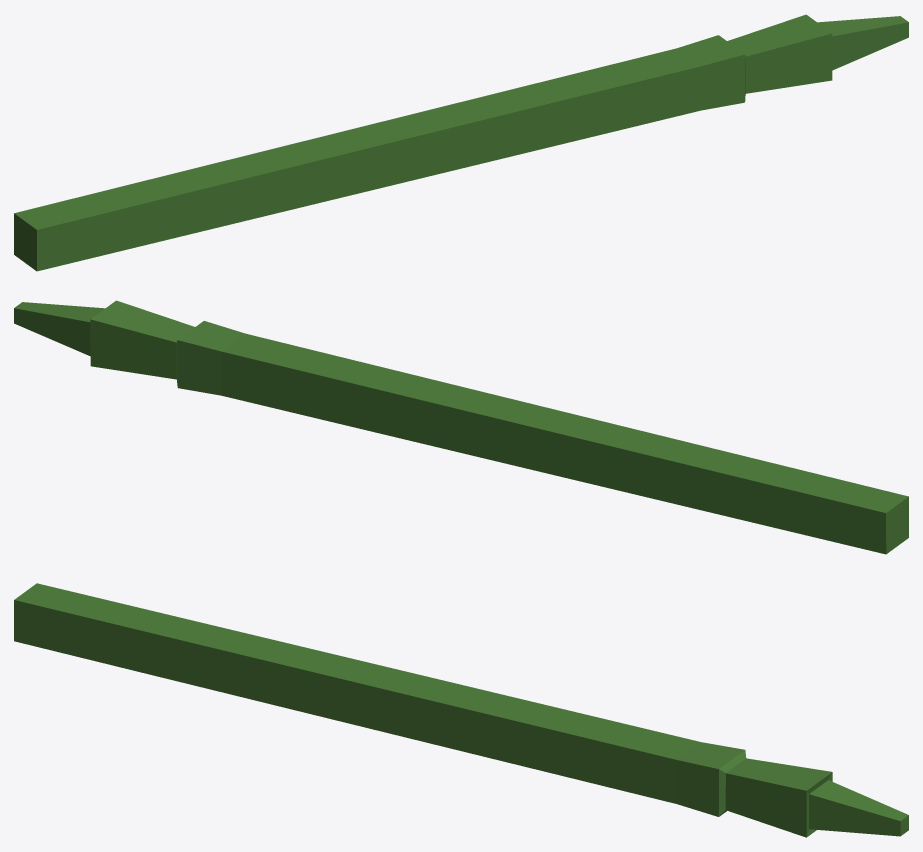
File: asparagus.fbx
3 renders of one model, top to bottom at view 1: azimuth 30°, elevation 25°; view 2: azimuth 150°, elevation 25°; view 3: azimuth 330°, elevation 25°, orthographic.
Visible parts, largest first — view 1: asparagus; view 2: asparagus; view 3: asparagus.
Boxes of the visible parts, left/top/right/bottom form: asparagus: left=14, top=14, right=908, bottom=271; asparagus: left=14, top=300, right=908, bottom=554; asparagus: left=14, top=583, right=908, bottom=837.
Bounding box in the file's own units: 24.09 × 1.26 × 1.26.
1 material, 1 textured.
